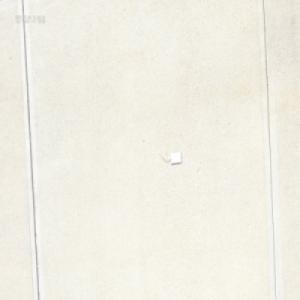LuggageTag: (156, 149, 182, 166)
